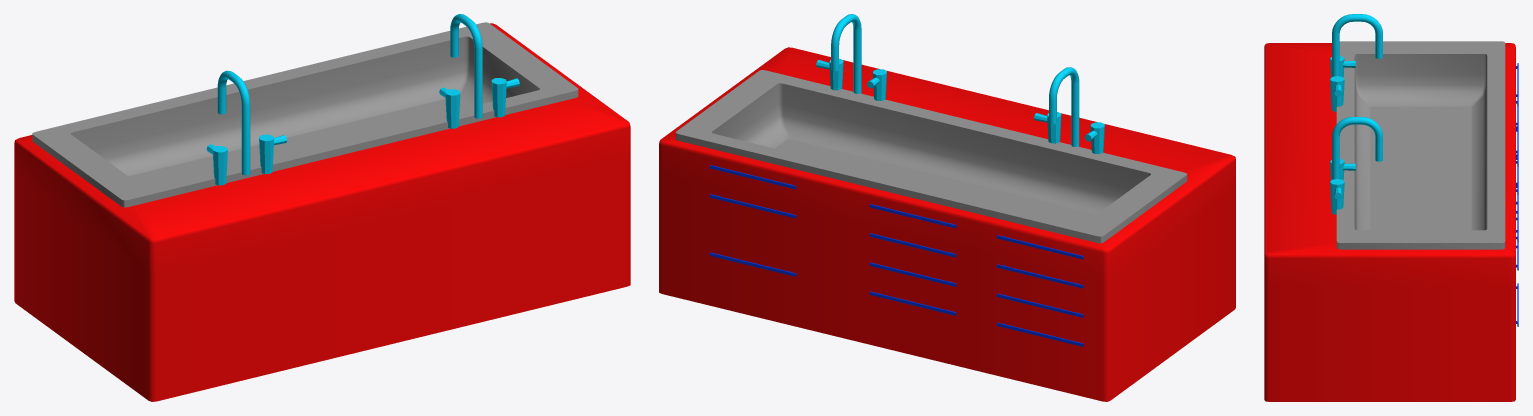
Rendered from Pica_Bath.FBX.
3 renders of one model, left to right at view 1: azimuth 30°, elevation 25°; view 2: azimuth 150°, elevation 25°; view 3: azimuth 270°, elevation 25°, orthographic. The views are drawn at different scales.
Visible parts, largest first — view 1: Object001; view 2: Object001; view 3: Object001.
Boxes of the visible parts, x1,y1,x2,y2 form: Object001: (14, 14, 630, 401); Object001: (659, 14, 1235, 401); Object001: (1264, 14, 1518, 401).
Bounding box in the file's own units: 3.03 × 1.56 × 1.53.
